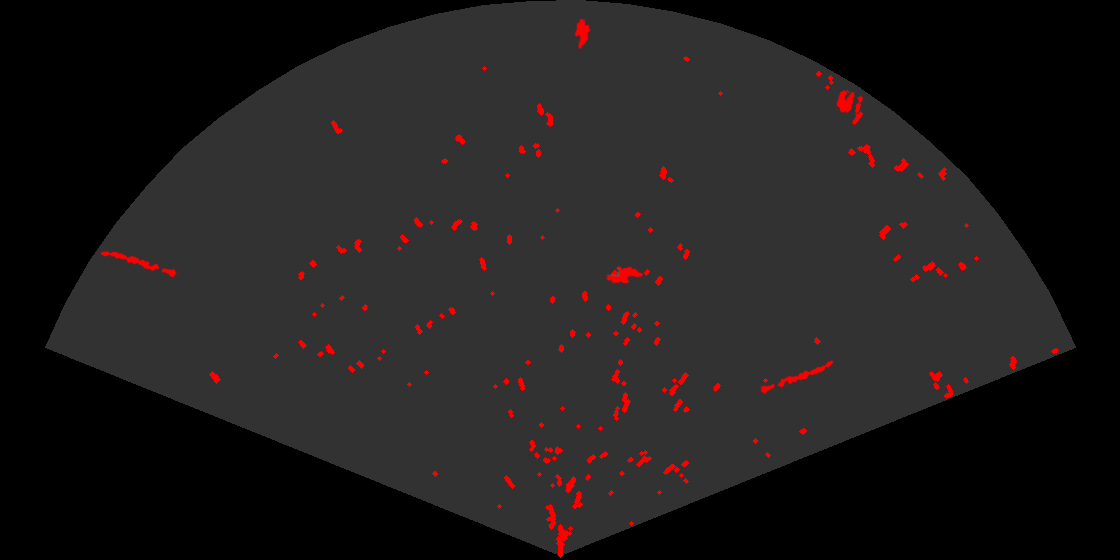AUV: (604, 264, 645, 285), (573, 17, 593, 51)
ball: (835, 88, 865, 115)
chain: (756, 359, 836, 396), (98, 249, 182, 279)
